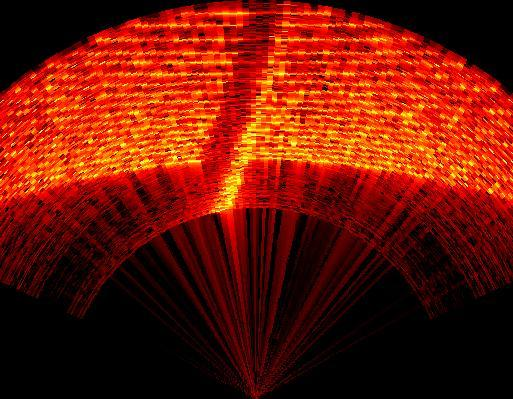pipe: (200, 1, 297, 215)
